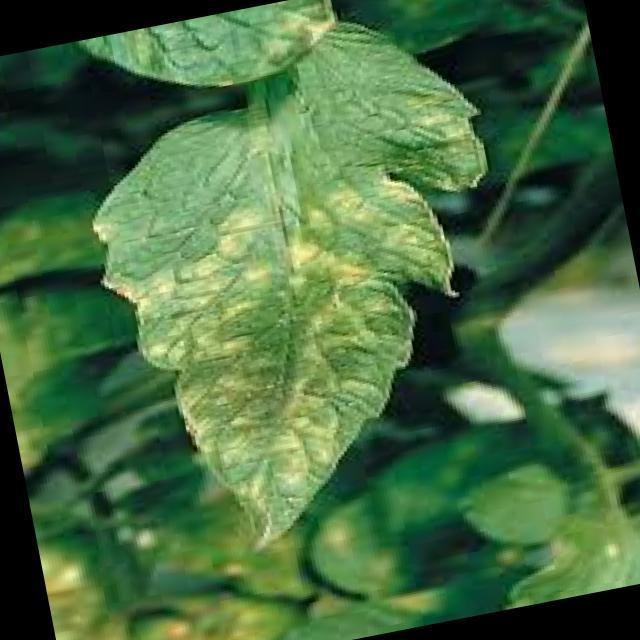Mosaic Virus: (102, 98, 544, 542)
